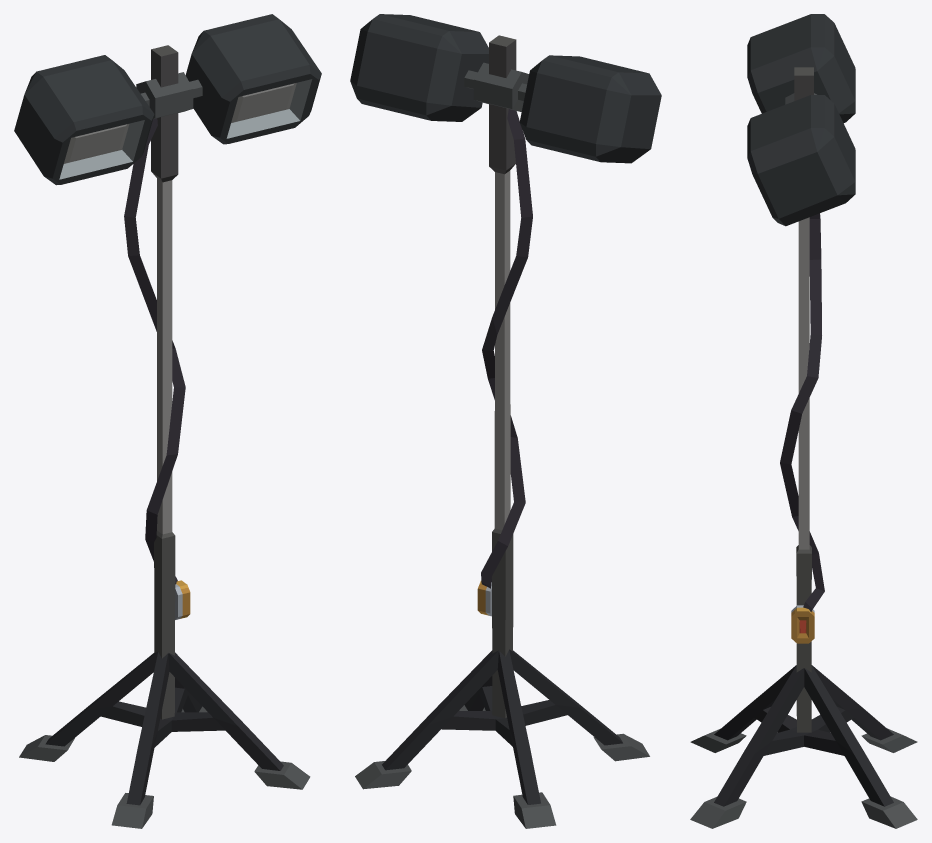
The model's file is light-pole.glb.
3 views of the same model, side by side, from view 1: azimuth 30°, elevation 25°; view 2: azimuth 150°, elevation 25°; view 3: azimuth 270°, elevation 25° (orthographic). The views are drawn at different scales.
Visible parts, largest first — view 1: SM_Prop_Light_Pole_01; view 2: SM_Prop_Light_Pole_01; view 3: SM_Prop_Light_Pole_01.
Boxes of the visible parts, x1,y1,x2,y2 form: SM_Prop_Light_Pole_01: (14,14,321,828); SM_Prop_Light_Pole_01: (350,14,661,828); SM_Prop_Light_Pole_01: (690,14,917,828).
Size of the model in its own units: 104 by 267 by 77.65.
Materials: 1 (1 with a texture image).
